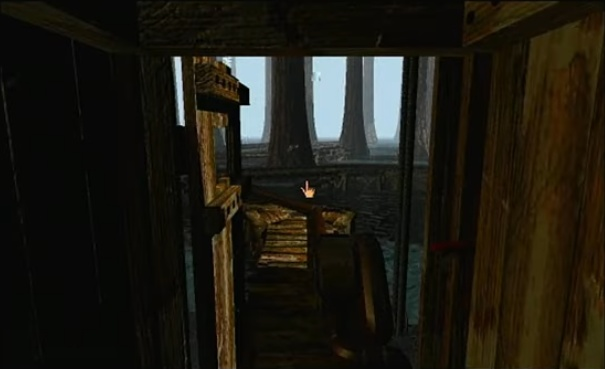Pointer: (298, 177, 319, 200)
